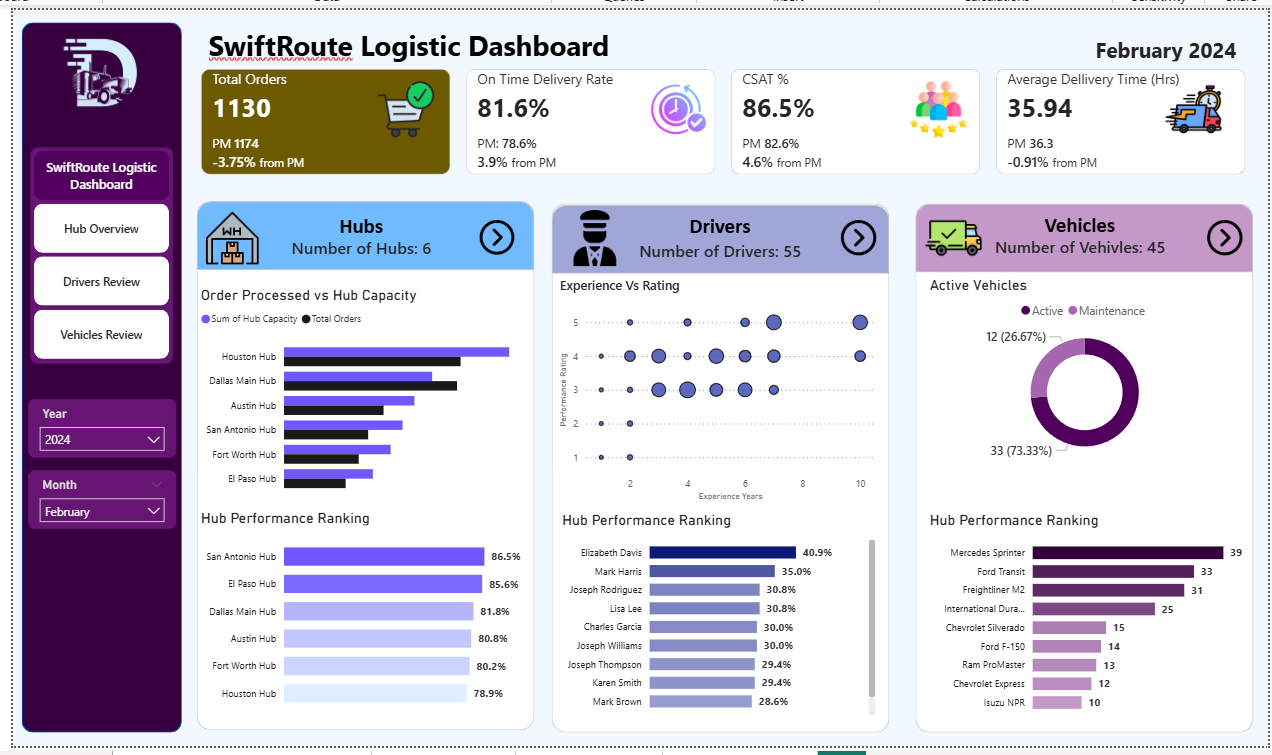

Layout of this report page (visuals, bound fields, positions):
{"tool":"powerbi","page":{"name":"SwiftRoute Logistic Dashboard","canvas":[1450,850],"ordinal":0},"visuals":[{"type":"shape","box":[10.1,14.4,184.8,820],"z":0},{"type":"textbox","box":[220.9,14.4,602,65],"z":1000},{"type":"cardVisual","fields":{"Data":["Key_Measure.Total Orders","Key_Measure.On Time Delivery Rate","Key_Measure.CSAT %","Key_Measure.Average Dellivery Time (Hrs)"]},"box":[212.2,57.7,1219.9,137.1],"z":2000},{"type":"slicer","fields":{"Values":["Date_Table.Year"]},"box":[16.8,449.6,171.4,68.2],"z":3000},{"type":"slicer","fields":{"Values":["Date_Table.Month"]},"box":[16.8,531.9,171.4,68.2],"z":4000},{"type":"shape","box":[212.9,221.5,390,610.7],"z":5000},{"type":"shape","box":[212.9,221.5,389.8,79.4],"z":6000},{"type":"textbox","box":[212.9,230.1,379.7,41.9],"z":7000},{"type":"cardVisual","fields":{"Data":["Key_Measure.No. of hubs"]},"box":[272.1,254.7,262.7,39],"z":8000},{"type":"clusteredBarChart","title":"Order Processed vs Hub Capacity","fields":{"Category":["Hubs.HubName"],"Y":["Sum(Hubs.Hub Capacity)","Key_Measure.Total Orders"]},"box":[212.9,319.6,379.7,249.7],"z":9000},{"type":"barChart","title":"Hub Performance Ranking","fields":{"Category":["Hubs.HubName"],"Y":["Key_Measure.On Time Delivery Rate"]},"box":[212.9,576.6,379.7,242.5],"z":10000},{"type":"shape","box":[622.2,223.8,389.8,610.7],"z":11000},{"type":"shape","box":[622.2,225.2,389.8,79.4],"z":12000},{"type":"textbox","box":[626.9,229.7,379.7,41.9],"z":13000},{"type":"cardVisual","fields":{"Data":["Key_Measure.Number of Drivers"]},"box":[685.7,257,262.7,39],"z":14000},{"type":"shape","box":[1042.3,223.8,389.8,610.7],"z":15000},{"type":"shape","box":[1042.3,223.8,389.8,79.4],"z":16000},{"type":"textbox","box":[1042.5,228.3,379.7,41.9],"z":17000},{"type":"cardVisual","fields":{"Data":["Key_Measure.Number of Vehivles"]},"box":[1101.7,252.9,262.7,39],"z":18000},{"type":"scatterChart","title":"Experience Vs Rating","fields":{"X":["Drivers.Experience Years"],"Y":["Drivers.Performance Rating"],"Size":["Sum(Drivers.Experience Years)1"]},"box":[626.5,307.5,379.7,264.2],"z":19000},{"type":"barChart","title":"Hub Performance Ranking","fields":{"Category":["Drivers.DriverName"],"Y":["Key_Measure.Delayed Delivery rate"]},"box":[629.4,579.5,371.8,241.5],"z":20000},{"type":"donutChart","title":"Active Vehicles","fields":{"Category":["Vehicles.Vehicle Status"],"Y":["CountNonNull(Vehicles.Vehicle ID)"]},"box":[1053.8,307.5,368.1,219.4],"z":21000},{"type":"barChart","title":"Hub Performance Ranking","fields":{"Category":["Vehicles.Vehicle Model"],"Y":["Key_Measure.Total Orders"]},"box":[1053.8,578.9,371,242.5],"z":22000},{"type":"image","box":[39,24.5,125.6,102.5],"z":23000},{"type":"cardVisual","fields":{"Data":["Key_Measure.Year Month Title"]},"box":[1231.4,24.5,200.7,40.4],"z":24000},{"type":"pageNavigator","box":[20.2,158.8,164.6,249.7],"z":25000},{"type":"image","box":[421.5,82.3,65,65],"z":26000},{"type":"image","box":[736.2,82.3,65,65],"z":27000},{"type":"image","box":[1036.5,82.3,65,65],"z":28000},{"type":"image","box":[1331,82.3,65,65],"z":29000},{"type":"image","box":[220.9,231,65,65],"z":30000},{"type":"image","box":[639.5,231,65,65],"z":31000},{"type":"image","box":[1053.8,231,65,65],"z":32000},{"type":"image","box":[534.1,242.7,50,40],"z":33000},{"type":"image","box":[951.3,242.5,50.5,40.4],"z":34000},{"type":"image","box":[1374.3,242.5,50.5,40.4],"z":35000}]}

Visuals, with their boxes on the page's 1450x850 design canvas (x1, y1, x2, y2). These are canvas units, not pixel positions in the 1272x755 screenshot, which may show the page scaled, cropped or inside an application window:
shape: <region>10, 14, 195, 834</region>
textbox: <region>221, 14, 823, 79</region>
cardVisual - Key_Measure.Total Orders x Key_Measure.On Time Delivery Rate: <region>212, 58, 1432, 195</region>
slicer - Date_Table.Year: <region>17, 450, 188, 518</region>
slicer - Date_Table.Month: <region>17, 532, 188, 600</region>
shape: <region>213, 222, 603, 832</region>
shape: <region>213, 222, 603, 301</region>
textbox: <region>213, 230, 593, 272</region>
cardVisual - Key_Measure.No. of hubs: <region>272, 255, 535, 294</region>
"Order Processed vs Hub Capacity" clusteredBarChart: <region>213, 320, 593, 569</region>
"Hub Performance Ranking" barChart: <region>213, 577, 593, 819</region>
shape: <region>622, 224, 1012, 834</region>
shape: <region>622, 225, 1012, 305</region>
textbox: <region>627, 230, 1007, 272</region>
cardVisual - Key_Measure.Number of Drivers: <region>686, 257, 948, 296</region>
shape: <region>1042, 224, 1432, 834</region>
shape: <region>1042, 224, 1432, 303</region>
textbox: <region>1042, 228, 1422, 270</region>
cardVisual - Key_Measure.Number of Vehivles: <region>1102, 253, 1364, 292</region>
"Experience Vs Rating" scatterChart: <region>626, 308, 1006, 572</region>
"Hub Performance Ranking" barChart: <region>629, 580, 1001, 821</region>
"Active Vehicles" donutChart: <region>1054, 308, 1422, 527</region>
"Hub Performance Ranking" barChart: <region>1054, 579, 1425, 821</region>
image: <region>39, 24, 165, 127</region>
cardVisual - Key_Measure.Year Month Title: <region>1231, 24, 1432, 65</region>
pageNavigator: <region>20, 159, 185, 408</region>
image: <region>422, 82, 486, 147</region>
image: <region>736, 82, 801, 147</region>
image: <region>1036, 82, 1102, 147</region>
image: <region>1331, 82, 1396, 147</region>
image: <region>221, 231, 286, 296</region>
image: <region>640, 231, 704, 296</region>
image: <region>1054, 231, 1119, 296</region>
image: <region>534, 243, 584, 283</region>
image: <region>951, 242, 1002, 283</region>
image: <region>1374, 242, 1425, 283</region>
